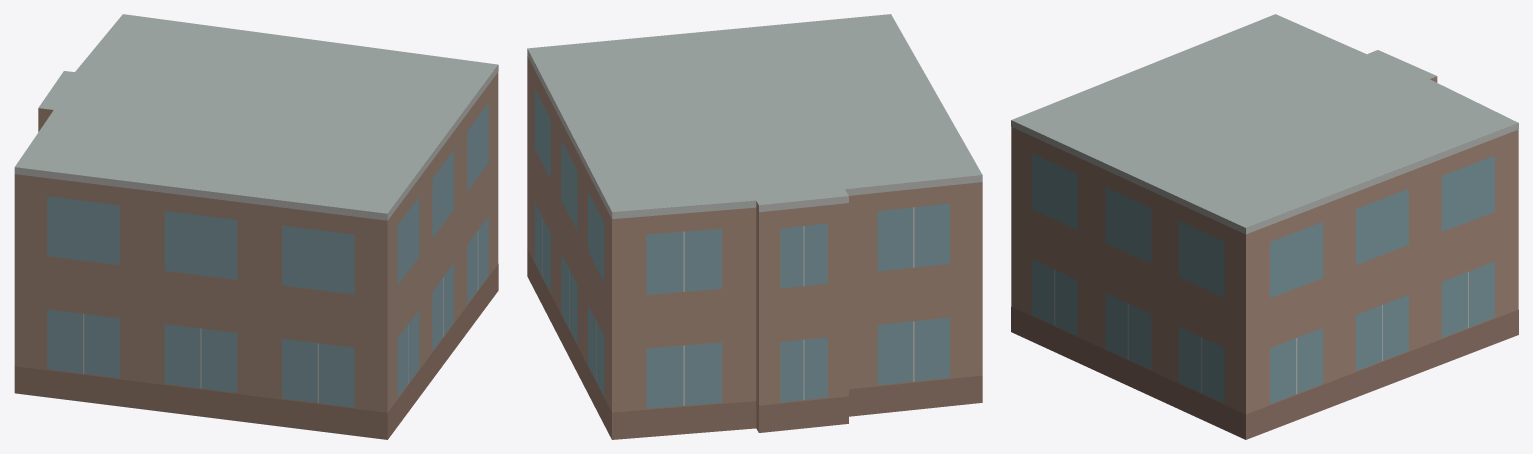
File: survey-upis-32867104.glb
3 views of the same model, side by side, from view 1: azimuth 30°, elevation 25°; view 2: azimuth 150°, elevation 25°; view 3: azimuth 270°, elevation 25° (orthographic). The views are drawn at different scales.
Parts seen in each view (by area): view 1: survey-upis-32867104.tmp; view 2: survey-upis-32867104.tmp; view 3: survey-upis-32867104.tmp.
Boxes of the visible parts, left/top/right/bottom form: survey-upis-32867104.tmp: left=14, top=14, right=498, bottom=439; survey-upis-32867104.tmp: left=527, top=14, right=982, bottom=439; survey-upis-32867104.tmp: left=1011, top=14, right=1518, bottom=439.
Size of the model in its own units: 17.23 by 7.95 by 17.27.
